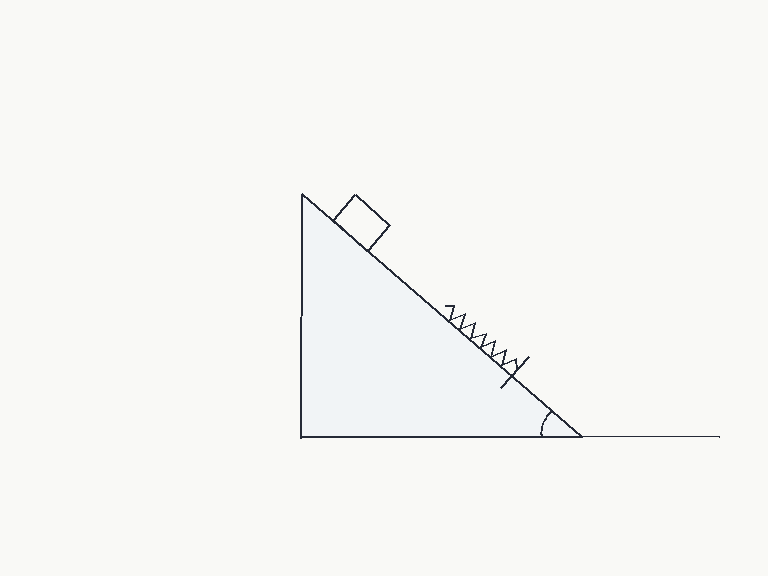block: (330, 193, 391, 253)
ramp: (299, 192, 583, 439)
spring: (442, 303, 519, 371)
